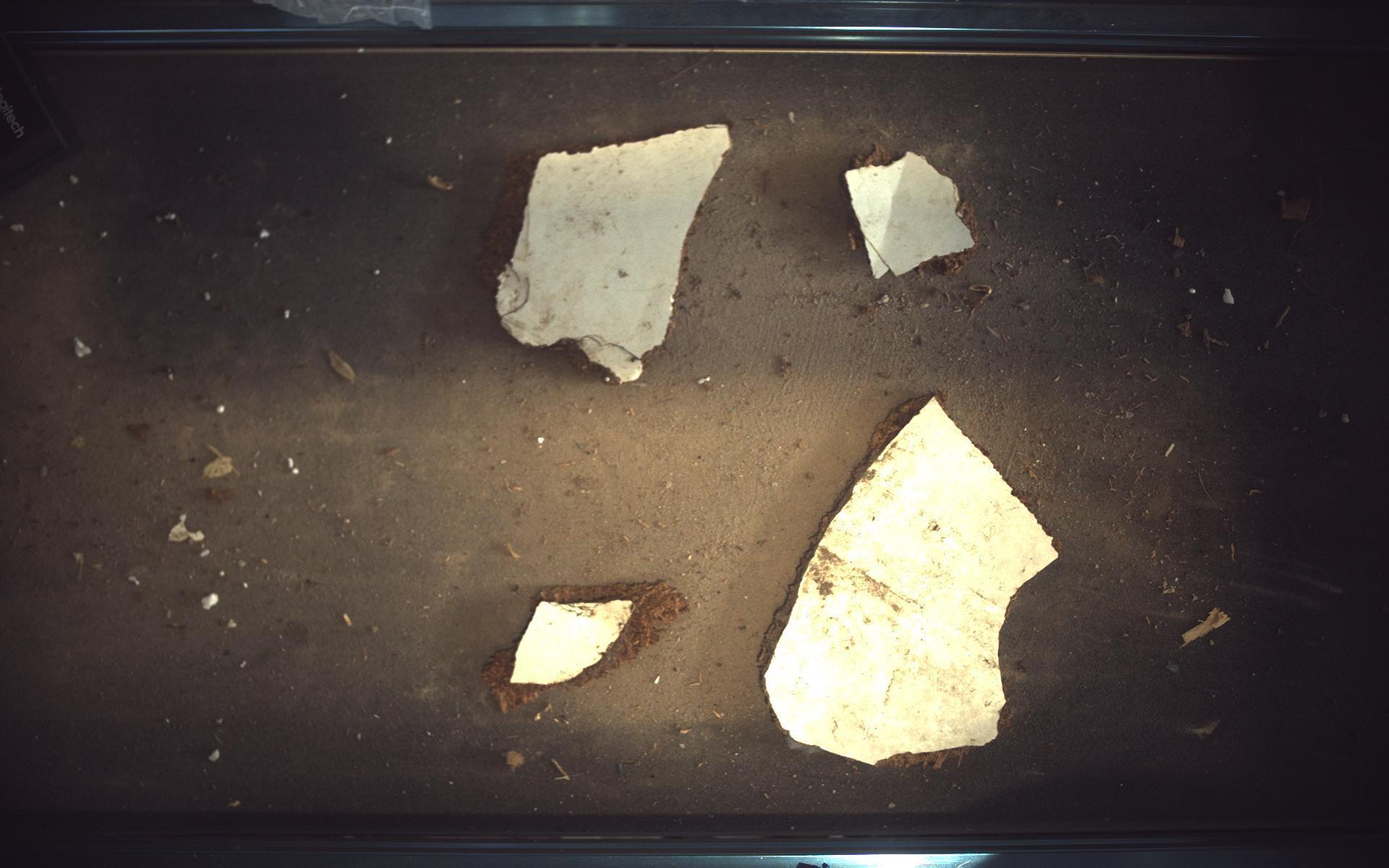wood: (760, 395, 1061, 770), (478, 124, 731, 383), (483, 582, 689, 713), (846, 142, 980, 278)
